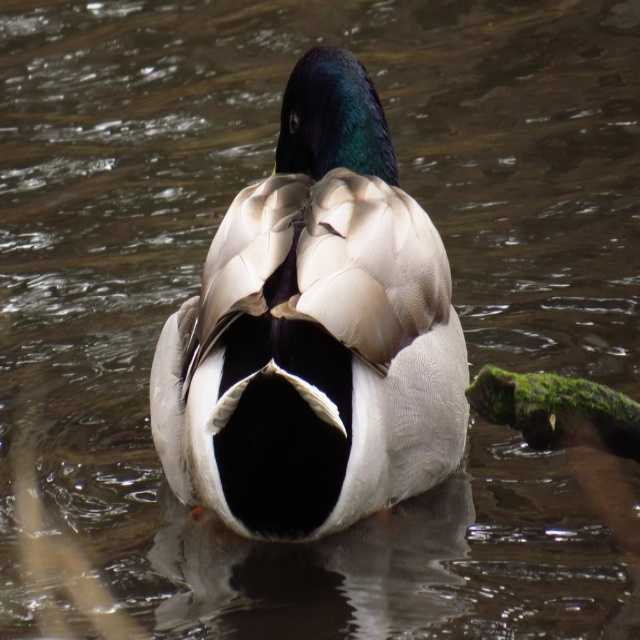Duck: (149, 45, 473, 552)
